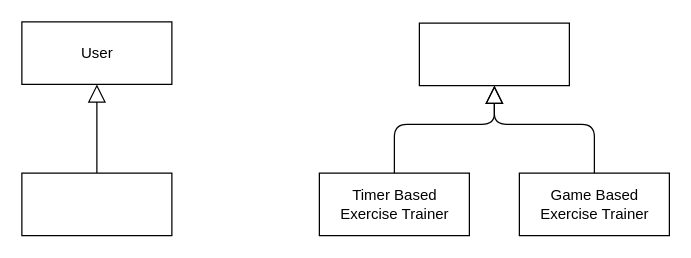
The diagram is 691 pixels wide and 258 high, and some of its shapes have lost their labels. The box of each missing label's shape, as (x1, y1, x2, y2) in pixels:
Exercise Trainer: (418, 22, 569, 86)
Online User: (21, 172, 172, 236)
